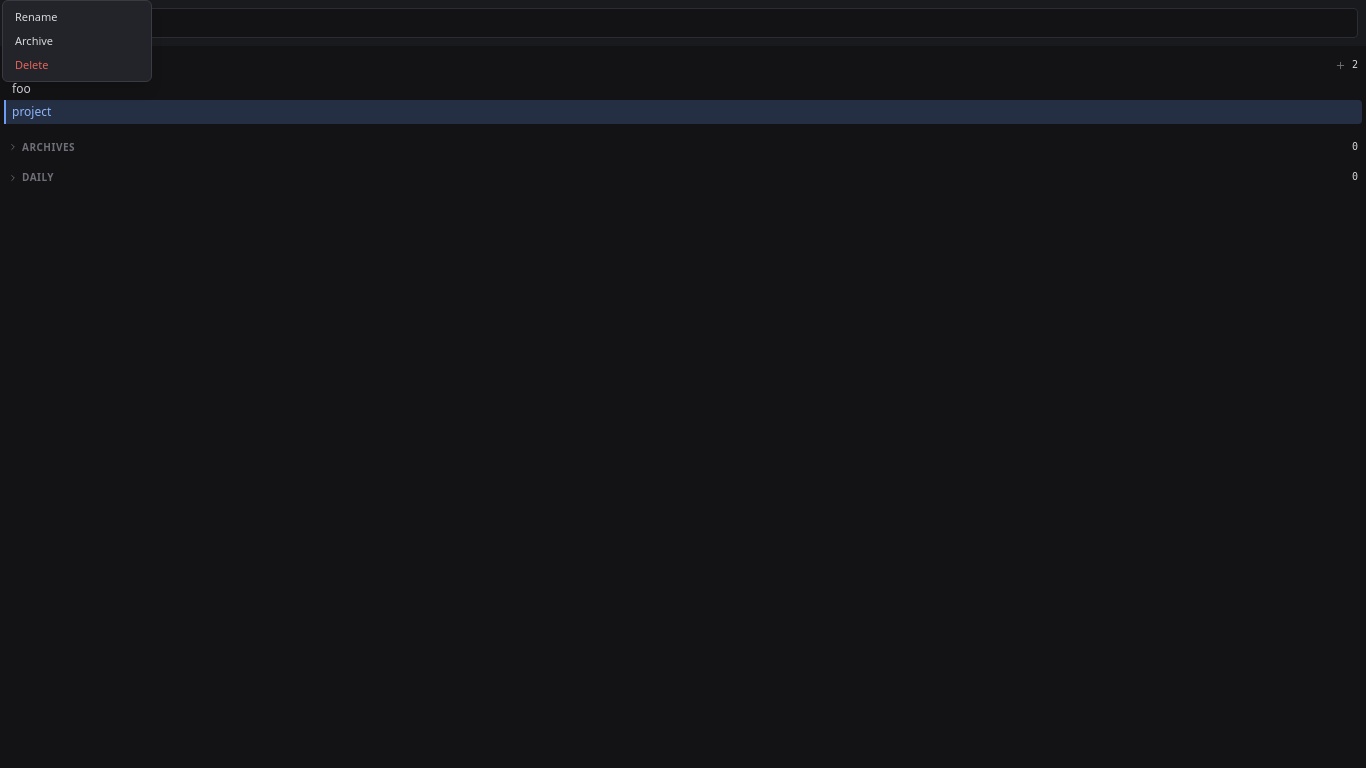
Test: DeleteNoteDialog › deletes a non-current note and leaves the editor alone
Click the menu item "Delete" at coordinates (32, 64), box [15, 57, 48, 72]
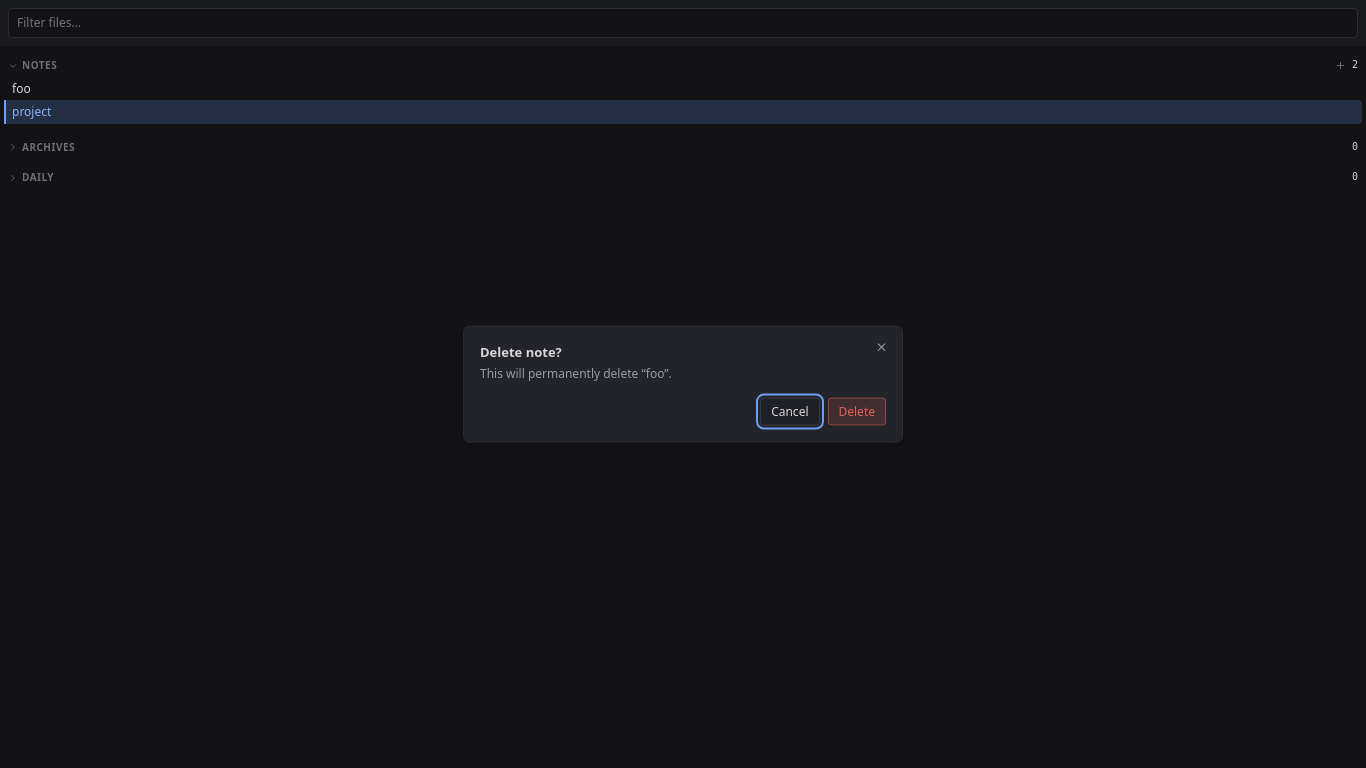
Check: the heading "Delete note?" is shown, box [480, 343, 562, 361]
Check: the text "This will permanently delete “foo”." is shown, box [480, 364, 672, 381]
Click the button with test id "delete-note-confirm" at coordinates (857, 411), box [828, 397, 886, 425]
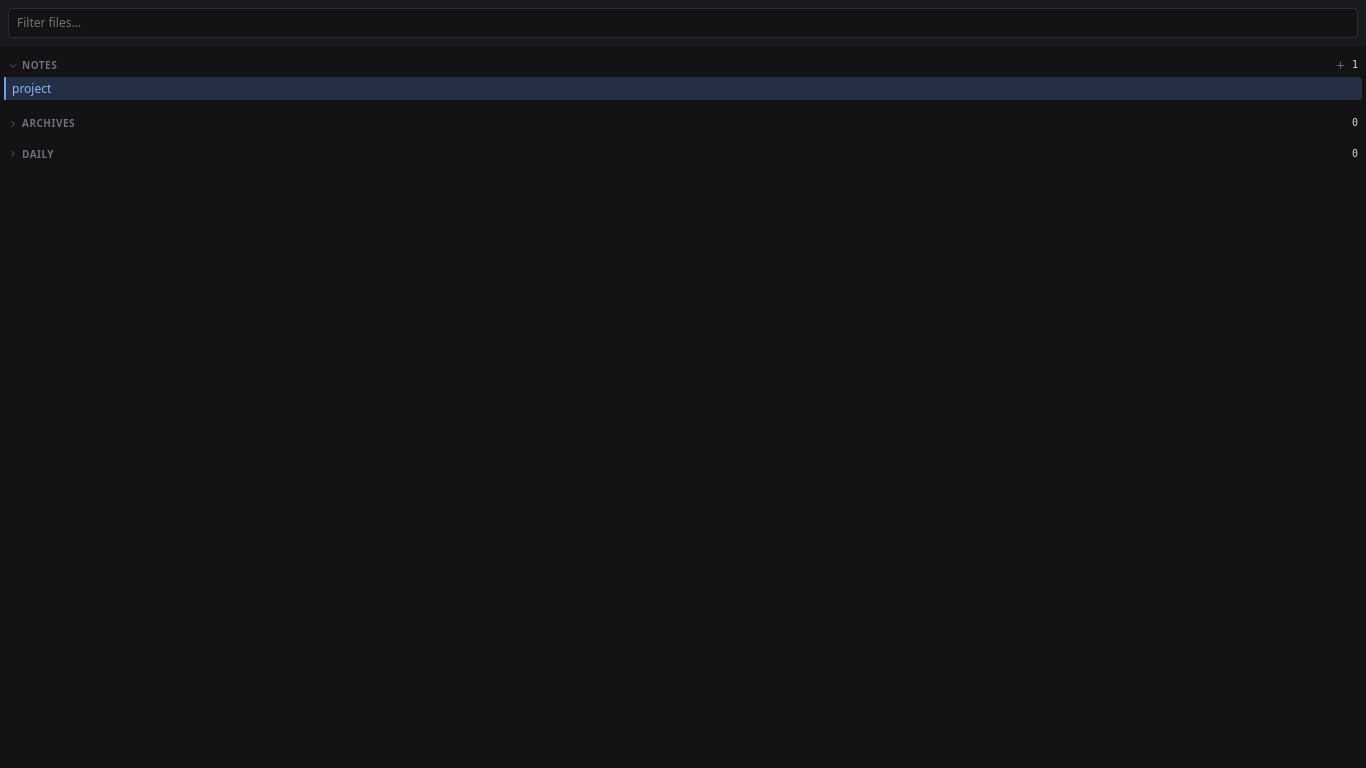
Check: the button "foo" is gone
